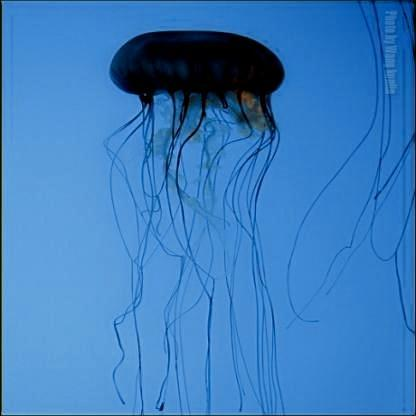Dressed: (115, 31, 283, 237)
